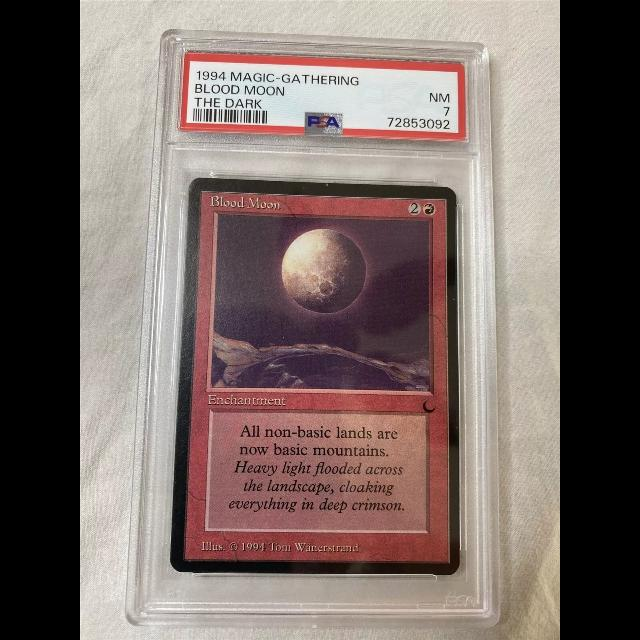card: (169, 176, 460, 575)
psa_label: (180, 54, 467, 142)
psa_slab: (124, 27, 501, 629)
